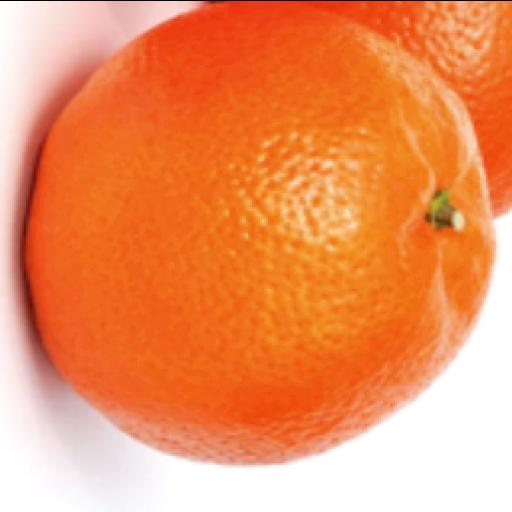orange: (25, 3, 493, 464), (297, 1, 511, 216)
